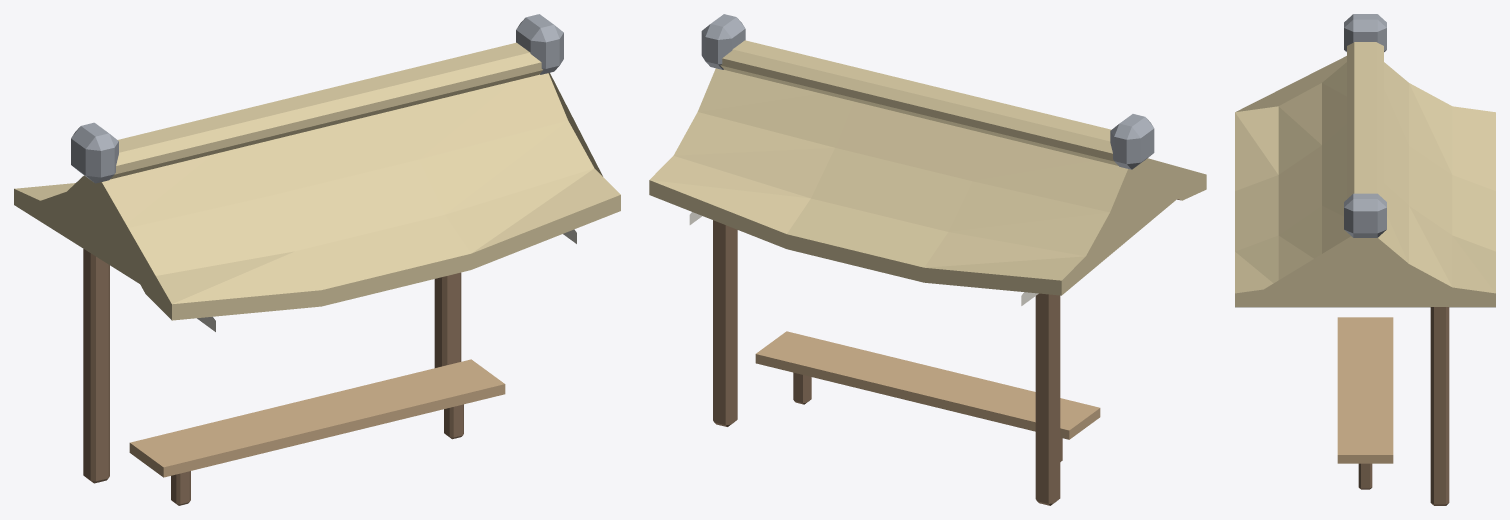
File: wayside-rest-shelter.glb
3 renders of one model, left to right at view 1: azimuth 30°, elevation 25°; view 2: azimuth 150°, elevation 25°; view 3: azimuth 270°, elevation 25°, orthographic. The views are drawn at different scales.
Parts seen in each view (by area): view 1: wayside-rest-shelter; view 2: wayside-rest-shelter; view 3: wayside-rest-shelter.
Part boxes in pixels (box(x1,y1,x2,y2)): wayside-rest-shelter: box(14, 14, 620, 505); wayside-rest-shelter: box(649, 14, 1206, 505); wayside-rest-shelter: box(1235, 14, 1495, 505).
Size of the model in its own units: 4.9 by 3.86 by 2.8.
